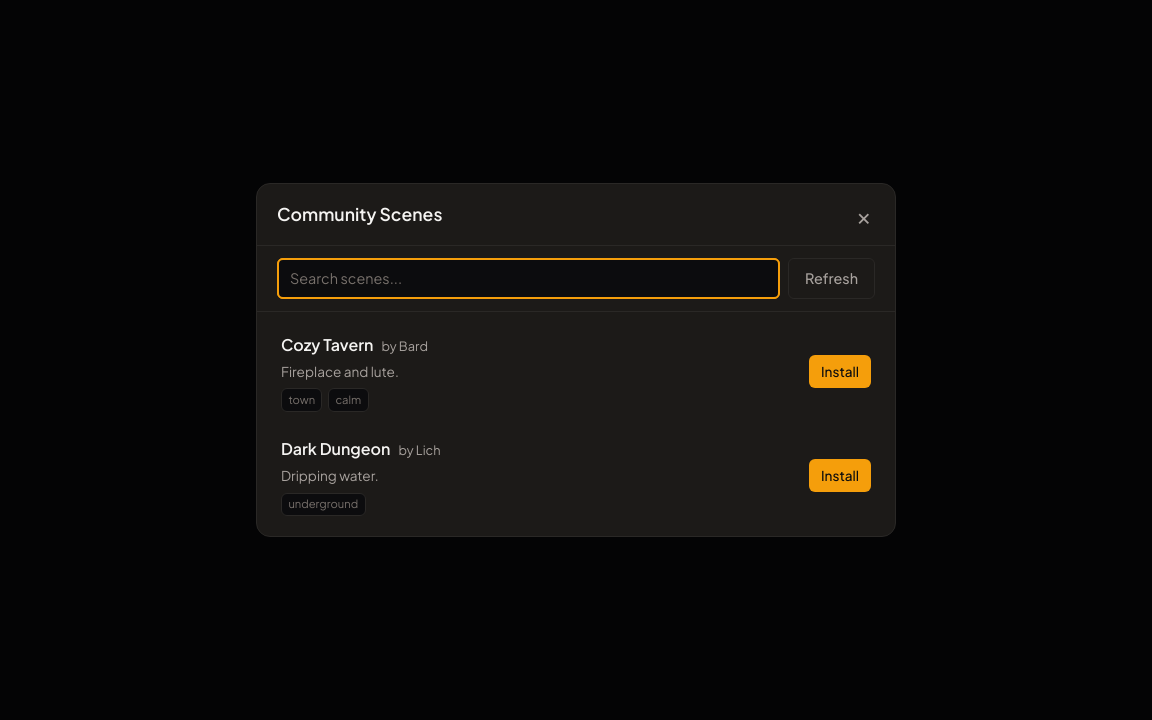
Test: registryBrowser › install › falls back to a generic message for a non-Error rejection
Click the button with class "btn-install" in the row of "Dripping water.".
click(840, 476)  # box x1=809 y1=459 x2=871 y2=492
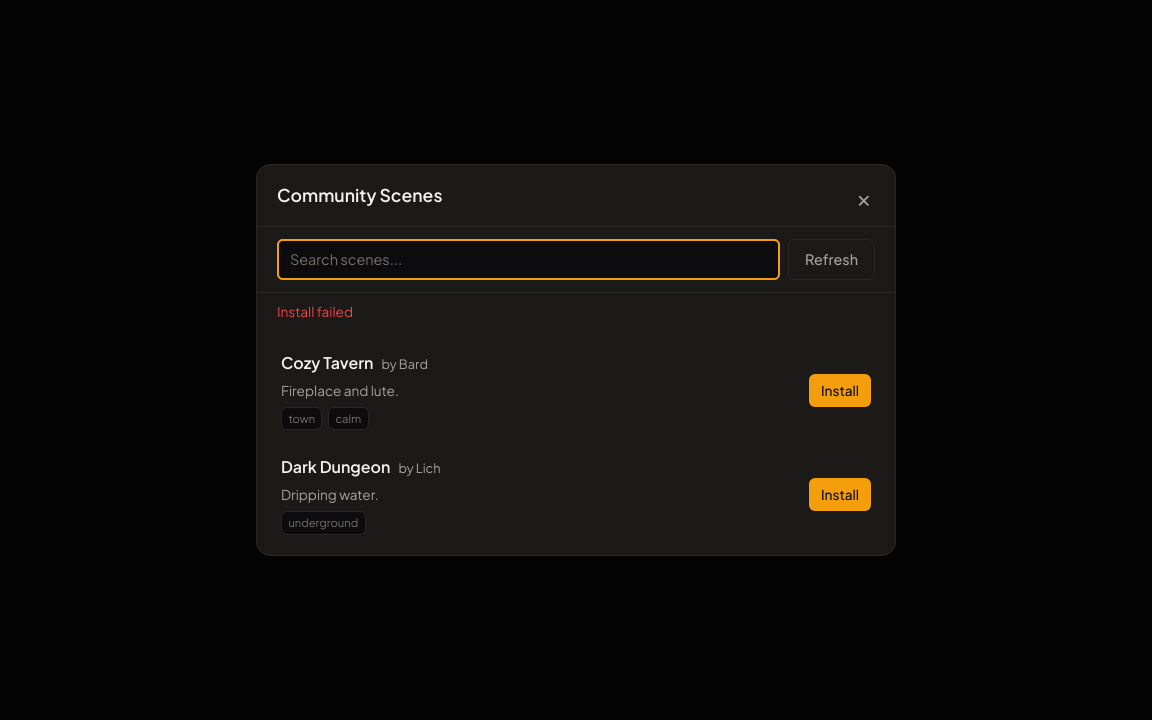
expect the text with class "status-message" reads "Install failed": met, box x1=277 y1=303 x2=353 y2=320
